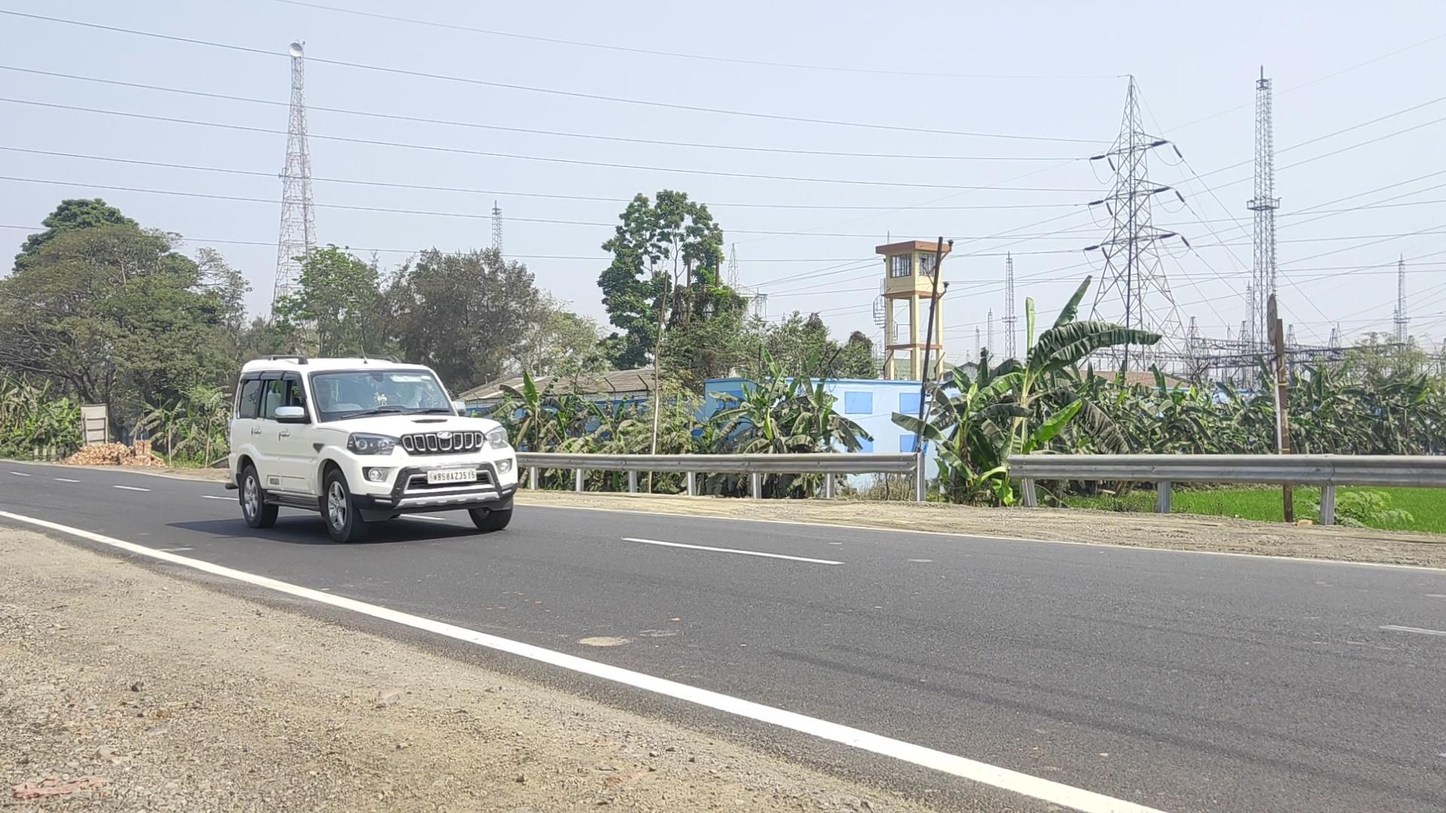car: (225, 355, 518, 544)
